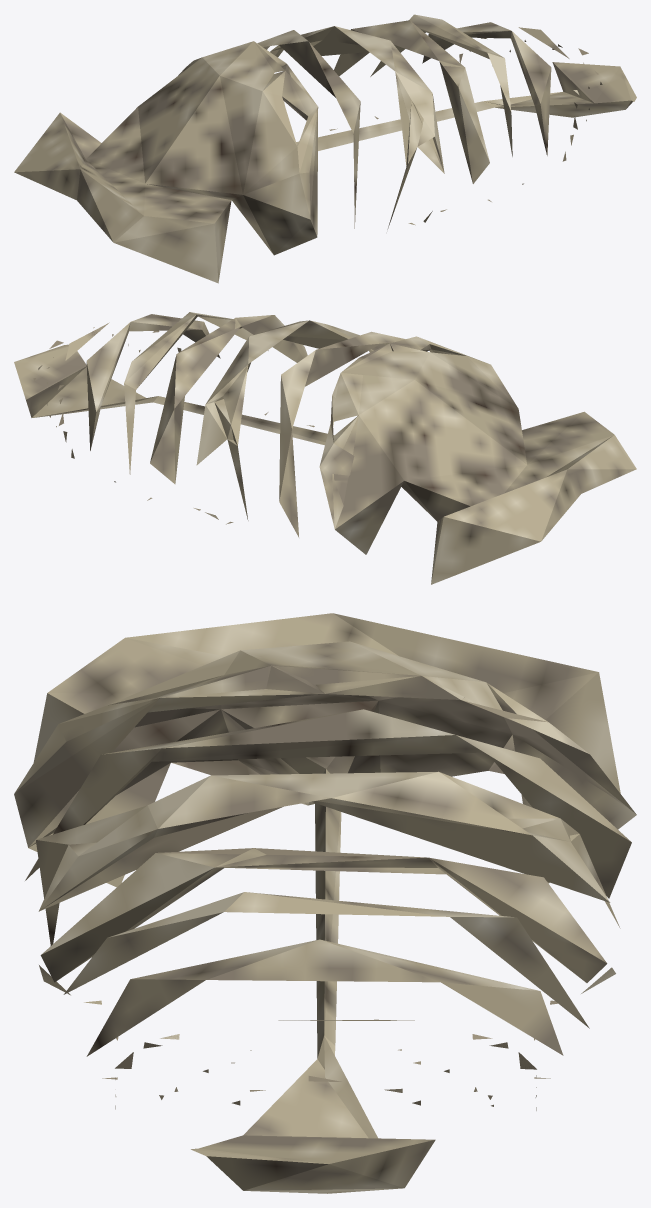
The model's file is SM_MeshyRibcage.fbx.
3 renders of one model, top to bottom at view 1: azimuth 30°, elevation 25°; view 2: azimuth 150°, elevation 25°; view 3: azimuth 270°, elevation 25°, orthographic. The views are drawn at different scales.
Visible parts, largest first — view 1: SM_MeshyRibcage; view 2: SM_MeshyRibcage; view 3: SM_MeshyRibcage.
Boxes of the visible parts, <box> form: SM_MeshyRibcage: <box>14,14,636,283</box>; SM_MeshyRibcage: <box>14,312,636,584</box>; SM_MeshyRibcage: <box>14,613,636,1193</box>.
Size of the model in its own units: 0.9782 by 0.2394 by 0.4982.
1 material, 1 textured.
